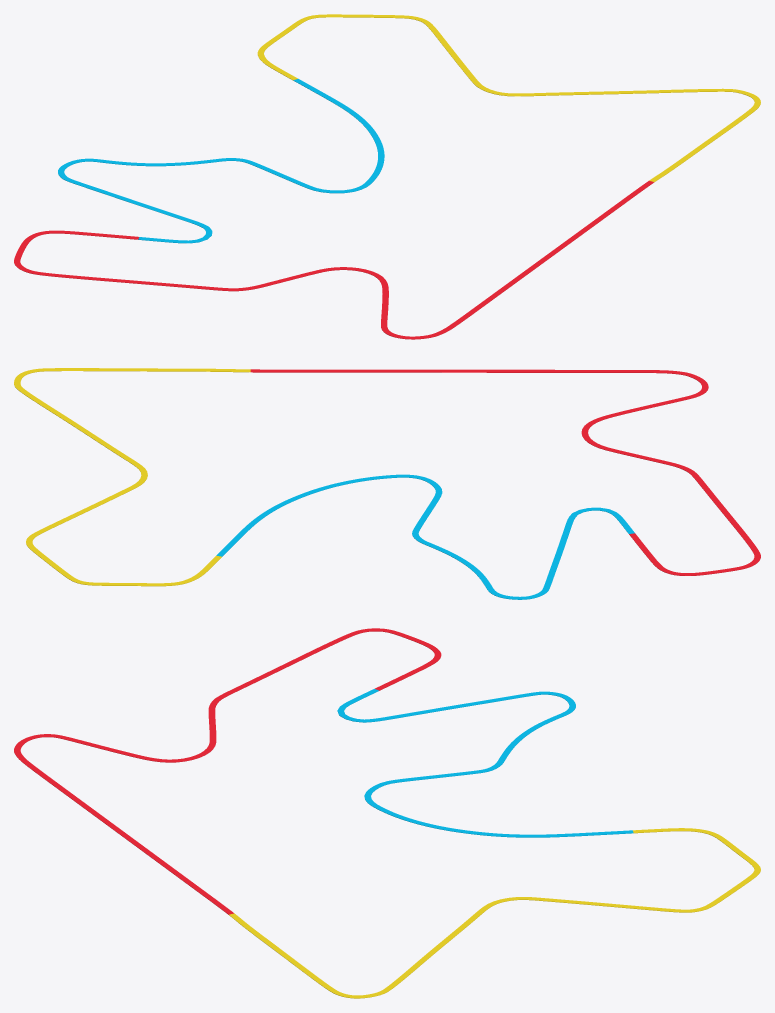
The model's file is LusailSectors.glb.
3 renders of one model, top to bottom at view 1: azimuth 30°, elevation 25°; view 2: azimuth 150°, elevation 25°; view 3: azimuth 270°, elevation 25°, orthographic. The views are drawn at different scales.
Visible parts, largest first — view 1: SectorStrip_1, SectorStrip_3, SectorStrip_2; view 2: SectorStrip_1, SectorStrip_3, SectorStrip_2; view 3: SectorStrip_1, SectorStrip_3, SectorStrip_2.
Boxes of the visible parts, bbox=[...] form: SectorStrip_1: bbox=[14, 181, 654, 339]; SectorStrip_3: bbox=[257, 14, 760, 181]; SectorStrip_2: bbox=[58, 78, 384, 243]; SectorStrip_1: bbox=[250, 369, 760, 575]; SectorStrip_3: bbox=[14, 368, 250, 586]; SectorStrip_2: bbox=[216, 474, 634, 599]; SectorStrip_1: bbox=[14, 628, 441, 914]; SectorStrip_3: bbox=[229, 828, 760, 998]; SectorStrip_2: bbox=[337, 689, 633, 837].
Bounding box in the file's own units: 15.84 × 0.006 × 13.52.
